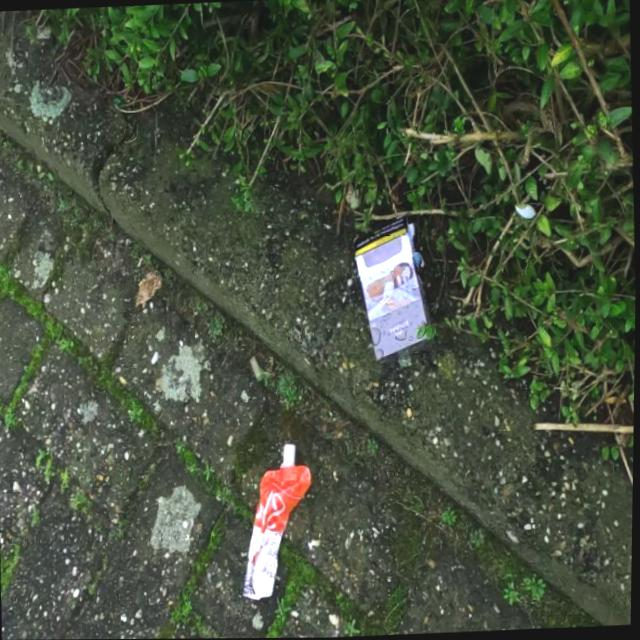Paper: (352, 213, 436, 364)
Plastic: (237, 439, 319, 602)
